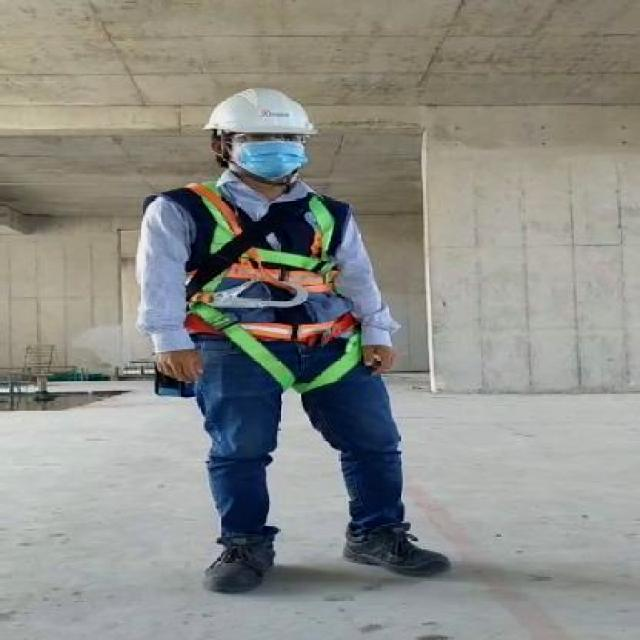face_mask: (227, 126, 308, 177)
hand_noglove: (146, 339, 209, 388), (352, 331, 401, 383)
head_helmet: (197, 86, 321, 140)
person: (128, 72, 460, 606)
shoes: (196, 521, 292, 599), (336, 522, 458, 578)
vest: (143, 176, 371, 347)
